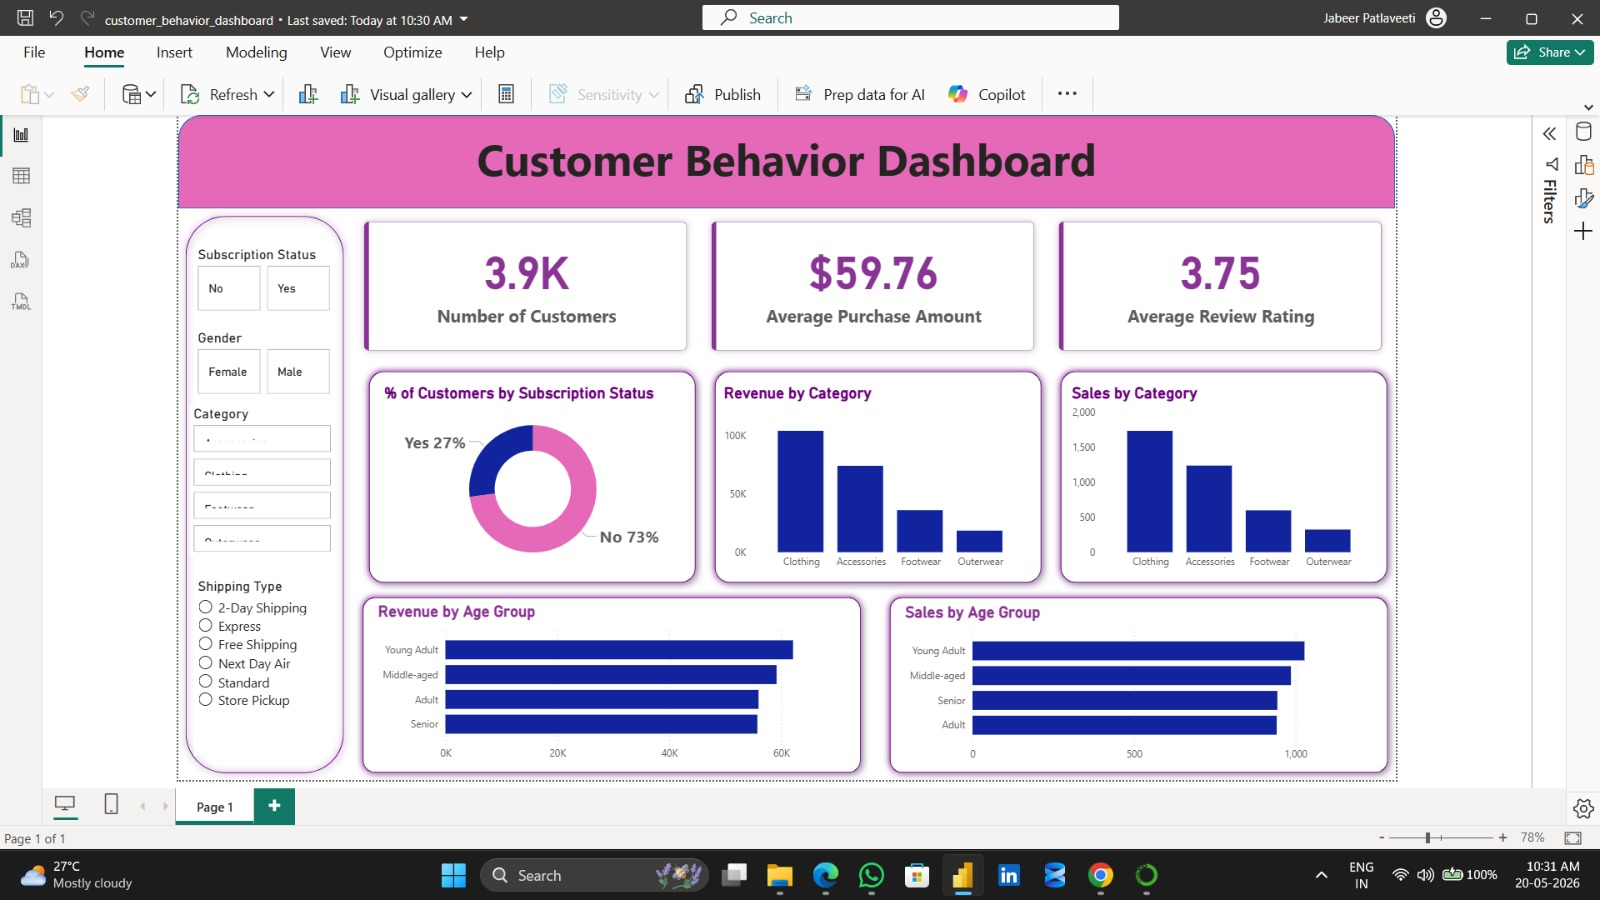

The page's visual inventory and layout, read from the dashboard file:
{"tool":"powerbi","page":{"name":"Page 1","canvas":[1500,820],"ordinal":0},"visuals":[{"type":"cardVisual","fields":{"Data":["public customer.Number of Customers","public customer.Average Purchase Amount","public customer.Average Review Rating"]},"box":[212.9,115.3,1286.5,191.6],"z":2000},{"type":"shape","box":[218.3,585.6,631.7,234.2],"z":2500,"group":"g1"},{"type":"shape","box":[0,0,1499.4,115.3],"z":3000},{"type":"textbox","box":[0,12.4,1499.4,102.9],"z":4000},{"type":"shape","box":[225.4,307,420.5,278.6],"z":5000},{"type":"donutChart","title":"% of Customers by Subscription Status","fields":{"Category":["public customer.subscription_status"],"Y":["CountNonNull(public customer.customer_id)"]},"box":[248.4,331.8,376.2,237.8],"z":6000},{"type":"shape","box":[1078.9,307,420.5,278.6],"z":7000},{"type":"shape","box":[652.1,307,420.5,278.6],"z":8000},{"type":"clusteredColumnChart","title":"Revenue by Category","fields":{"Category":["public customer.category"],"Y":["Sum(public customer.purchase_amount)"]},"box":[667.2,331.8,385.1,237.8],"z":9000},{"type":"clusteredColumnChart","title":"Sales by Category","fields":{"Category":["public customer.category"],"Y":["CountNonNull(public customer.customer_id)"]},"box":[1096.6,331.8,385.1,237.8],"z":10000},{"type":"shape","box":[0,115.3,212.9,704.5],"z":11000},{"type":"advancedSlicerVisual","fields":{"Values":["public customer.subscription_status"]},"box":[19.5,161.5,173.9,85.2],"z":12000},{"type":"advancedSlicerVisual","fields":{"Values":["public customer.gender"]},"box":[19.5,264.4,173.9,85.2],"z":13000},{"type":"advancedSlicerVisual","fields":{"Values":["public customer.category"]},"box":[14.2,358.4,179.2,186.3],"z":14000},{"type":"listSlicer","fields":{"Values":["public customer.shipping_type"]},"box":[19.5,569.6,168.6,220],"z":15000},{"type":"shape","box":[867.7,585.6,631.7,234.2],"z":16000},{"type":"clusteredBarChart","title":"Sales by Age Group","fields":{"Category":["public customer.age_group"],"Y":["CountNonNull(public customer.customer_id)"]},"box":[890.8,601.5,585.6,204.1],"z":17000},{"type":"clusteredBarChart","title":"Revenue by Age Group","fields":{"Category":["public customer.age_group"],"Y":["Sum(public customer.purchase_amount)"]},"box":[241.4,601.6,585.6,204.1],"z":17500,"group":"g1"},{"type":"group","id":"g1","title":"Group 1","box":[218.3,585.6,631.7,234.2],"z":17501}]}

Visuals, with their boxes on the page's 1500x820 design canvas (x1, y1, x2, y2). These are canvas units, not pixel positions in the 1600x900 screenshot, which may show the page scaled, cropped or inside an application window:
cardVisual - public customer.Number of Customers x public customer.Average Purchase Amount: bbox=[213, 115, 1499, 307]
shape: bbox=[218, 586, 850, 820]
shape: bbox=[0, 0, 1499, 115]
textbox: bbox=[0, 12, 1499, 115]
shape: bbox=[225, 307, 646, 586]
"% of Customers by Subscription Status" donutChart: bbox=[248, 332, 625, 570]
shape: bbox=[1079, 307, 1499, 586]
shape: bbox=[652, 307, 1073, 586]
"Revenue by Category" clusteredColumnChart: bbox=[667, 332, 1052, 570]
"Sales by Category" clusteredColumnChart: bbox=[1097, 332, 1482, 570]
shape: bbox=[0, 115, 213, 820]
advancedSlicerVisual - public customer.subscription_status: bbox=[20, 162, 193, 247]
advancedSlicerVisual - public customer.gender: bbox=[20, 264, 193, 350]
advancedSlicerVisual - public customer.category: bbox=[14, 358, 193, 545]
listSlicer - public customer.shipping_type: bbox=[20, 570, 188, 790]
shape: bbox=[868, 586, 1499, 820]
"Sales by Age Group" clusteredBarChart: bbox=[891, 602, 1476, 806]
"Revenue by Age Group" clusteredBarChart: bbox=[241, 602, 827, 806]
"Group 1" group: bbox=[218, 586, 850, 820]
